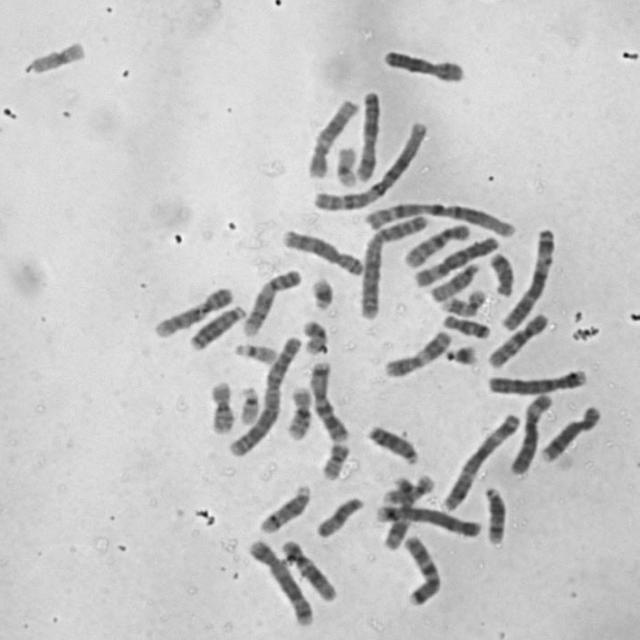A1: (309, 118, 429, 214), (360, 198, 519, 240)
A2: (226, 331, 304, 459), (356, 210, 430, 321)
A3: (437, 408, 523, 512), (499, 224, 558, 332)
B4: (370, 499, 484, 539), (484, 365, 590, 396)
B5: (243, 535, 317, 627)
C10: (484, 308, 552, 371), (399, 218, 473, 269)
C11: (380, 326, 454, 380), (378, 472, 418, 552)
C12: (304, 94, 362, 179), (276, 535, 340, 603)
C6: (409, 232, 502, 288), (508, 389, 556, 476)
C7: (305, 356, 351, 444), (399, 530, 444, 608)
C8: (277, 224, 366, 277), (537, 401, 604, 464)
C9: (150, 282, 236, 339), (240, 265, 304, 337)
D13: (186, 301, 248, 352), (363, 420, 421, 466)
D14: (254, 479, 314, 535), (480, 482, 509, 547)
D15: (312, 492, 368, 540), (426, 258, 482, 303)
E16: (282, 382, 315, 442), (206, 377, 237, 436)
E17: (378, 470, 438, 506), (436, 284, 489, 318)
E18: (438, 310, 493, 340), (485, 248, 516, 297)
F19: (24, 36, 89, 76), (332, 142, 361, 189)
F20: (317, 438, 352, 482), (298, 316, 330, 356)
G21: (307, 273, 336, 312), (441, 341, 481, 367)
G22: (230, 337, 280, 365), (235, 380, 262, 426)
X: (378, 44, 467, 84), (352, 85, 384, 182)
